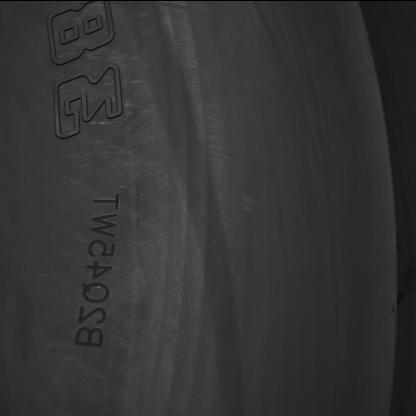ocr: (73, 191, 121, 347)
